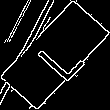L_NW: (25, 26, 85, 84)
